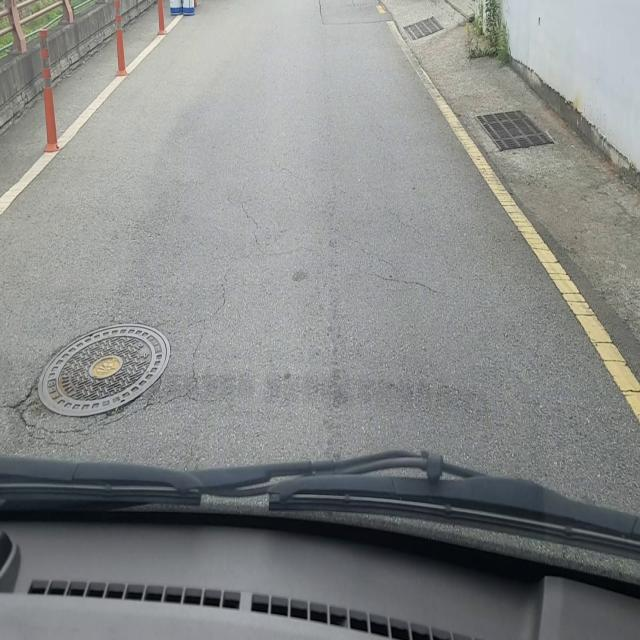Pothole: (22, 322, 172, 426)
